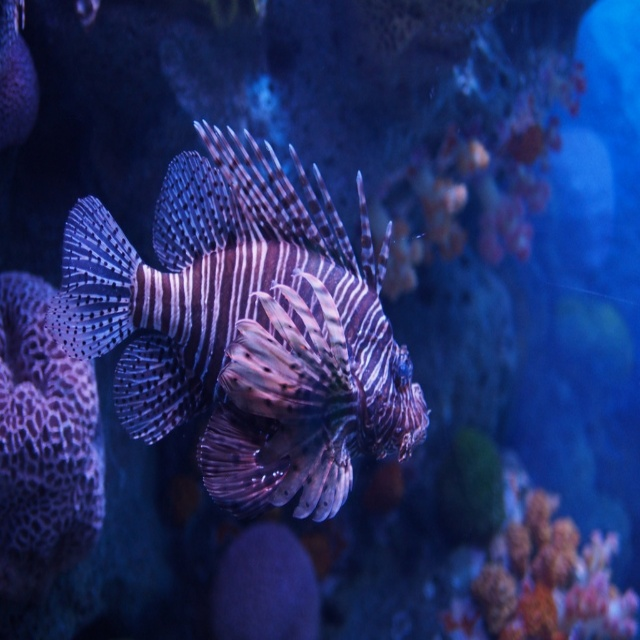Fish: (43, 117, 432, 523)
